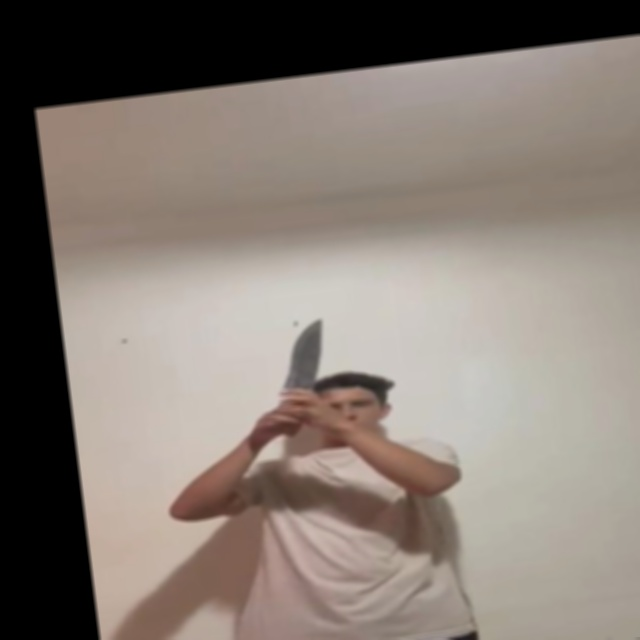Sharp-Object: (281, 315, 335, 390)
